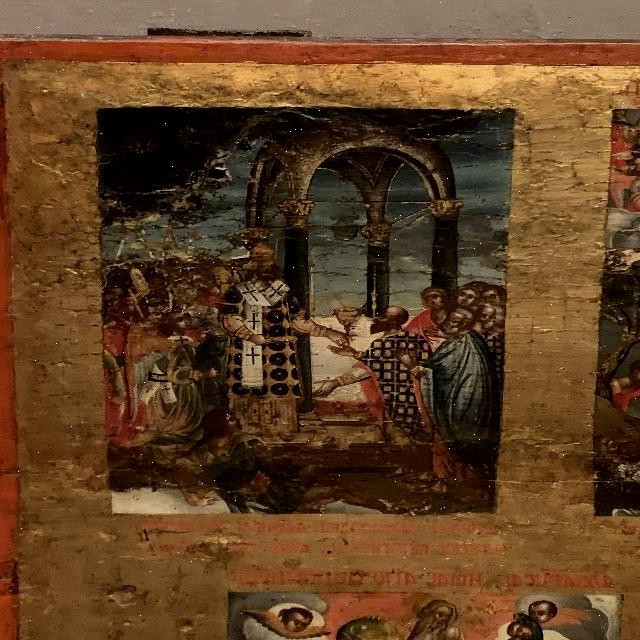chalice: (335, 304, 366, 350)
cross: (241, 283, 263, 305), (248, 346, 262, 367), (269, 283, 286, 300), (250, 309, 261, 333)
